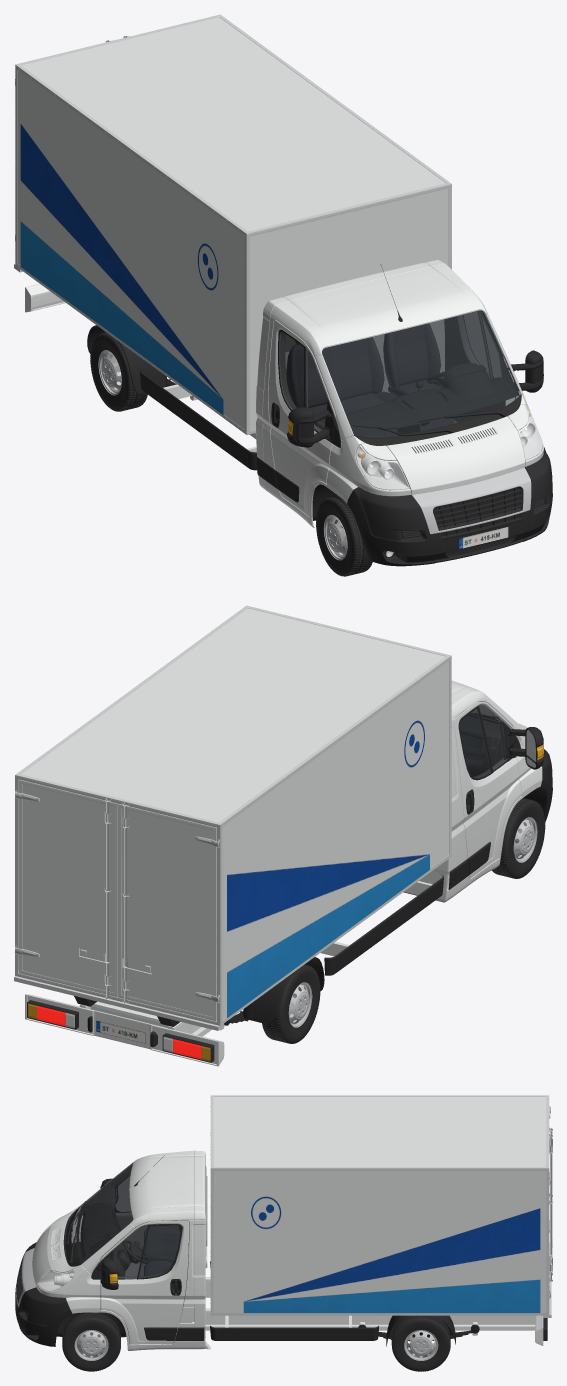
Rendered from kombi-l4h1.glb.
3 views of the same model, one above another, from view 1: azimuth 30°, elevation 25°; view 2: azimuth 150°, elevation 25°; view 3: azimuth 270°, elevation 25° (orthographic). The views are drawn at different scales.
Visible parts, largest first — view 1: body, cab_glass, windscreen_fx, firm_marking_R, door_R, wheel_2_mesh, wheel_0_mesh, door_R_glass, door_L_glass; view 2: body, door_rear_R, door_rear_L, firm_marking_R, door_R, wheel_0_mesh, wheel_2_mesh, door_R_glass, rear_floor_sill, plate_rear; view 3: body, firm_marking_L, door_L, cab_glass, windscreen_fx, wheel_3_mesh, door_L_glass, wheel_1_mesh, door_R_glass, door_rear_L, steering_m.
Boxes of the visible parts, <box> form: body: <box>15,14,552,566</box>; cab_glass: <box>285,310,520,437</box>; windscreen_fx: <box>322,310,520,437</box>; firm_marking_R: <box>20,124,223,415</box>; door_R: <box>268,320,335,517</box>; wheel_2_mesh: <box>316,495,372,576</box>; wheel_0_mesh: <box>90,332,147,411</box>; door_R_glass: <box>279,331,327,432</box>; door_L_glass: <box>462,311,503,377</box>; body: <box>15,605,552,1066</box>; door_rear_R: <box>117,802,219,1021</box>; door_rear_L: <box>15,779,117,999</box>; firm_marking_R: <box>227,720,430,1018</box>; door_R: <box>454,701,521,878</box>; wheel_0_mesh: <box>262,964,320,1043</box>; wheel_2_mesh: <box>492,798,545,878</box>; door_R_glass: <box>459,705,508,777</box>; rear_floor_sill: <box>14,973,224,1030</box>; plate_rear: <box>96,1020,145,1043</box>; body: <box>15,1095,549,1350</box>; firm_marking_L: <box>243,1196,540,1313</box>; door_L: <box>101,1220,188,1344</box>; cab_glass: <box>71,1163,207,1263</box>; windscreen_fx: <box>72,1163,132,1263</box>; wheel_3_mesh: <box>62,1312,120,1371</box>; door_L_glass: <box>113,1225,180,1279</box>; wheel_1_mesh: <box>391,1315,450,1371</box>; door_R_glass: <box>115,1176,130,1211</box>; door_rear_L: <box>549,1133,552,1298</box>; steering_m: <box>123,1240,149,1263</box>.
Bounding box in the file's own units: 2.65 × 2.83 × 6.69.
Materials: 27 (3 with a texture image).
